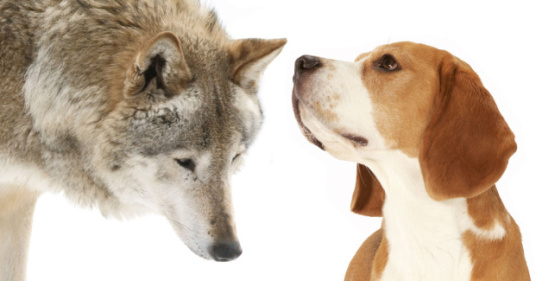dog: (292, 40, 536, 281)
wolf: (1, 1, 286, 280)
